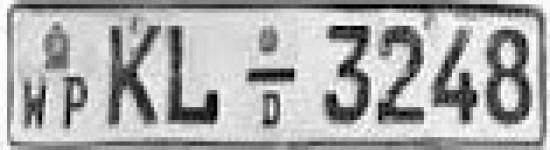-: (243, 62, 300, 88)
2: (375, 19, 428, 131)
3: (319, 16, 375, 133)
4: (428, 26, 486, 128)
8: (480, 22, 536, 134)
K: (101, 16, 164, 131)
L: (161, 19, 224, 130)
P: (58, 71, 93, 133)
W: (17, 73, 54, 134)
